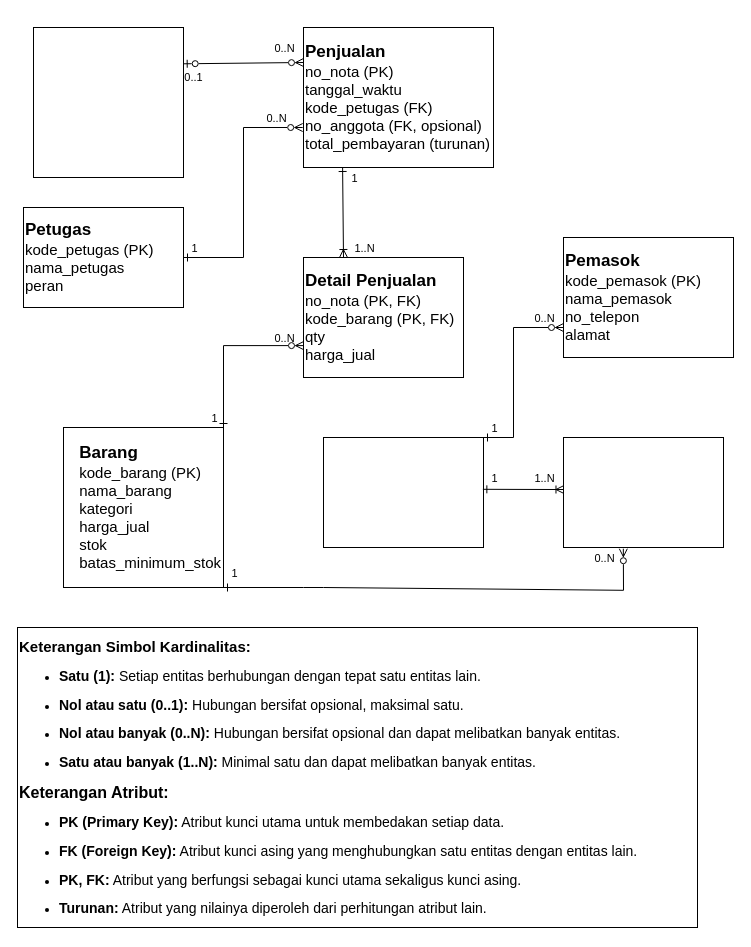
The diagram is 751 pixels wide and 947 high, and some of its shapes have lost their labels. Here are the shapes that lost their labels. From the top down, the box of each, then its label:
(32, 26, 184, 178): Anggota no_anggota (PK) nim nama program_studi no_hp status_aktif poin_loyalitas
(322, 436, 484, 548): Pembelian no_faktur (PK) tanggal kode_pemasok (FK)
(562, 436, 724, 548): Detail Pembelian no_faktur (PK, FK) kode_barang (PK, FK) qty harga_beli
